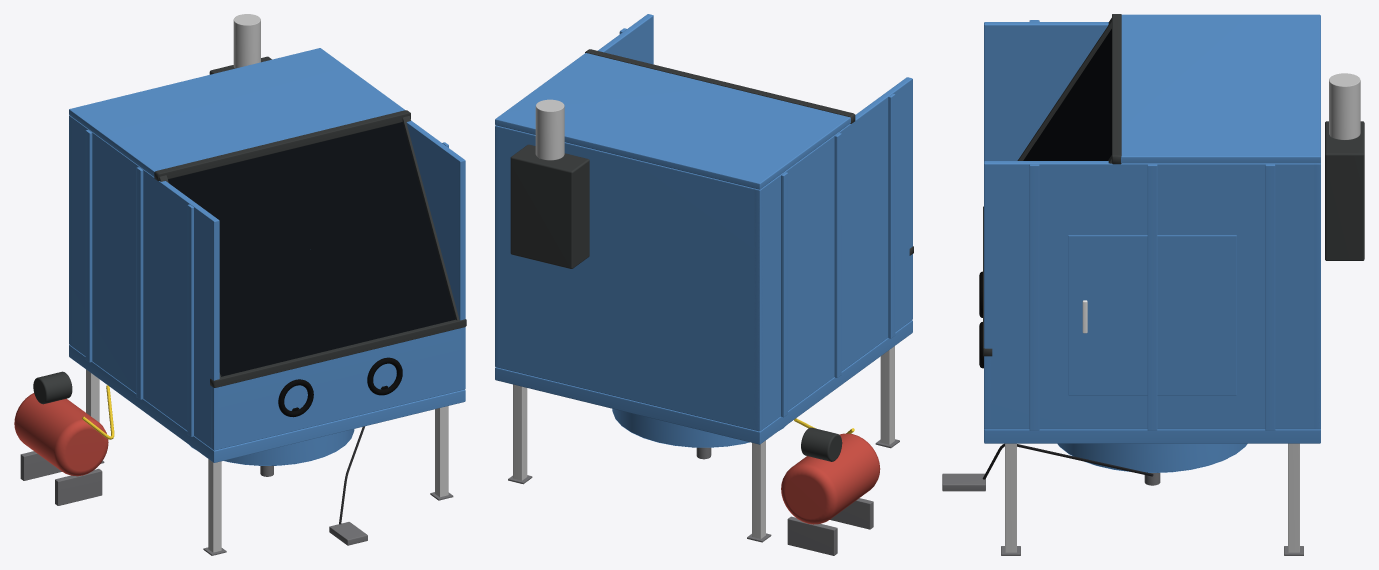
The model's file is industrial.workshop.blaster_cabinet.glb.
3 renders of one model, left to right at view 1: azimuth 30°, elevation 25°; view 2: azimuth 150°, elevation 25°; view 3: azimuth 270°, elevation 25°, orthographic. The views are drawn at different scales.
Parts seen in each view (by area): view 1: main__paint_59c, main__glass_dark, main__paint_333, main__paint_c44, main__galv_ccc, main__galv_777, main__rubber; view 2: main__paint_59c, main__paint_333, main__galv_ccc, main__paint_c44, main__galv_777; view 3: main__paint_59c, main__paint_333, main__glass_dark, main__galv_ccc, main__galv_777, main__paint_222.
Part boxes in pixels (<box>): main__paint_59c: <box>69,48,465,465</box>; main__glass_dark: <box>168,122,455,376</box>; main__paint_333: <box>33,56,466,404</box>; main__paint_c44: <box>14,393,108,476</box>; main__galv_ccc: <box>86,14,448,552</box>; main__galv_777: <box>20,451,453,555</box>; main__rubber: <box>278,357,402,417</box>; main__paint_59c: <box>495,14,912,447</box>; main__paint_333: <box>510,49,913,461</box>; main__galv_ccc: <box>513,99,894,538</box>; main__paint_c44: <box>781,433,880,524</box>; main__galv_777: <box>508,439,899,555</box>; main__paint_59c: <box>984,14,1320,472</box>; main__paint_333: <box>983,14,1364,356</box>; main__glass_dark: <box>1023,29,1111,160</box>; main__galv_ccc: <box>1005,73,1360,552</box>; main__galv_777: <box>942,473,1303,555</box>; main__paint_222: <box>982,443,1153,479</box>.
Size of the model in its own units: 2.16 by 2.47 by 2.13.
